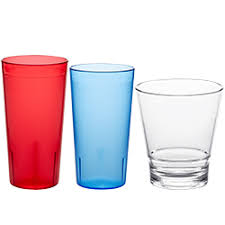plastic: (1, 55, 69, 190), (137, 78, 224, 178), (69, 63, 135, 190)
